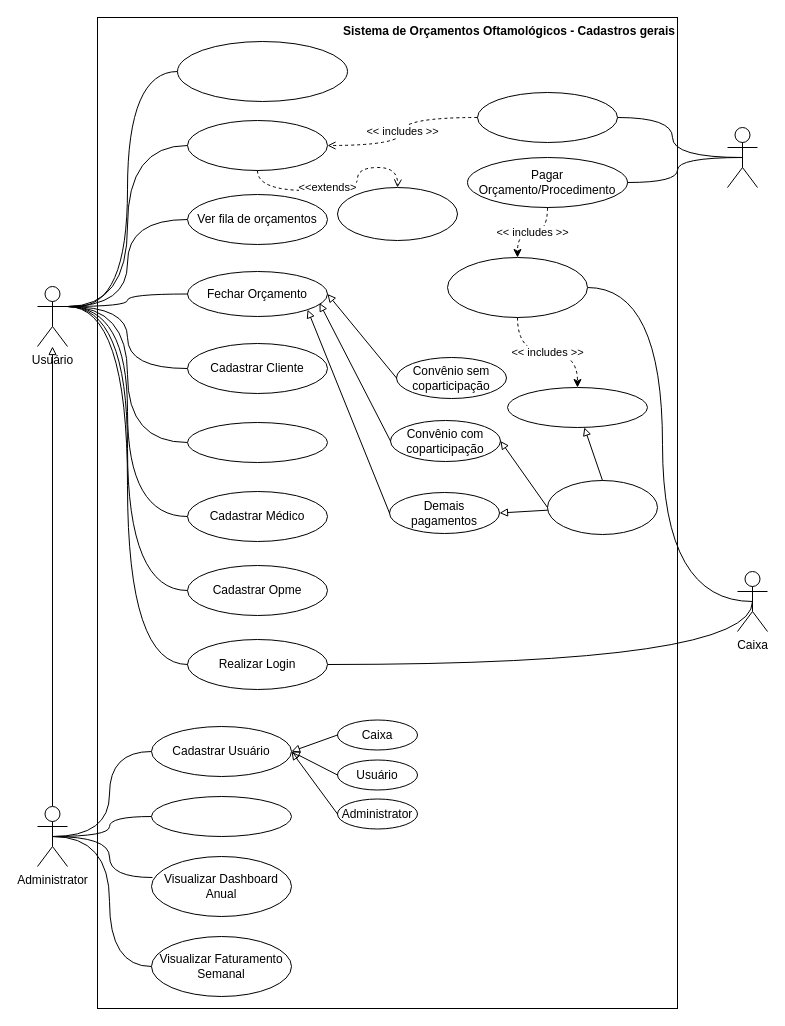
The diagram is 785 pixels wide and 1026 high, and some of its shapes have lost their labels. Each missing label, with the box of its shape:
Buscar cliente pelo nome ou CPF: (336, 186, 458, 240)
Cadastrar Orçamento: (186, 120, 328, 170)
Cadastrar Procedimento: (186, 422, 328, 462)
Cliente: (726, 126, 758, 188)
Confirmar Preparação de Cirurgia OK: (176, 40, 348, 102)
Confirmar Recebimento de Valores: (446, 256, 588, 318)
Crédito, Débito, Dinheiro, Cheque: (546, 480, 658, 534)
Gerar Relatório: (150, 796, 292, 836)
Receber Pagamento: (506, 386, 648, 428)
Solicitar Orçamento: (476, 92, 618, 142)
